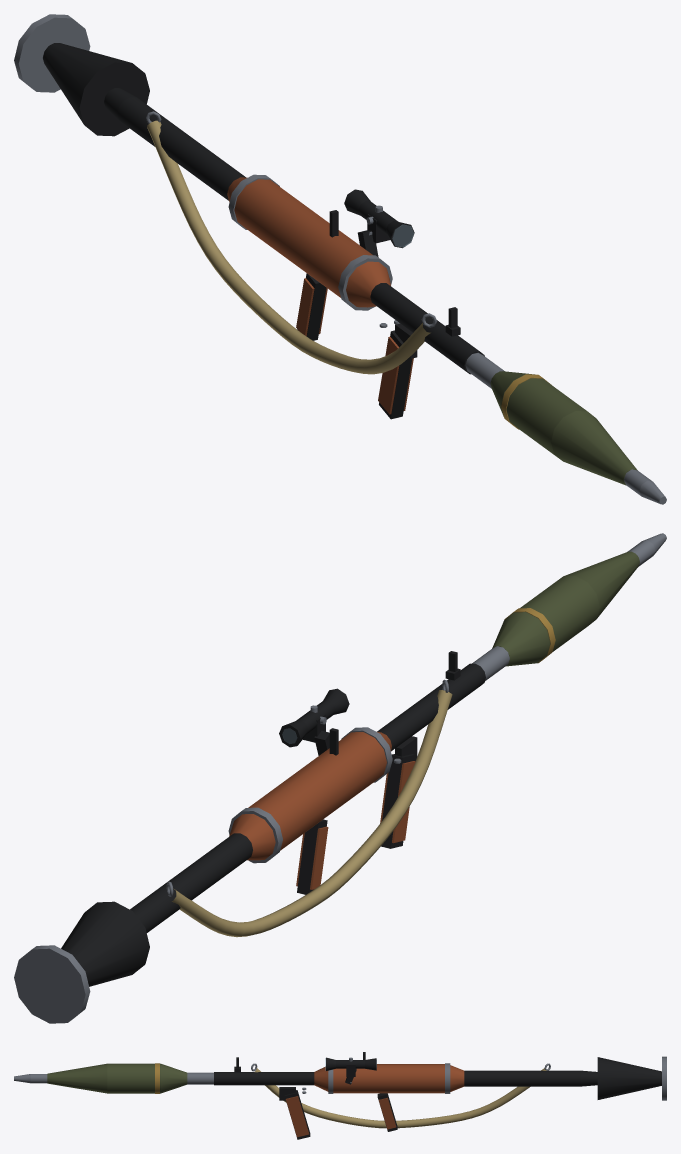
Rendered from rpg-7.glb.
3 renders of one model, top to bottom at view 1: azimuth 30°, elevation 25°; view 2: azimuth 150°, elevation 25°; view 3: azimuth 270°, elevation 25°, orthographic. The views are drawn at different scales.
Parts seen in each view (by area): view 1: Mesh_ShieldBody, Mesh_SlingStrap, Mesh_VenturiFlare, Mesh_TubeRear, Mesh_RocketFrontTaper, Mesh_VenturiRim, Mesh_RocketMain, Mesh_TubeFront, Mesh_ShieldFrontCap, Mesh_GripFrontFrame, Mesh_GripFrontScaleR, Mesh_GripRearFrame (+2 smaller); view 2: Mesh_ShieldBody, Mesh_SlingStrap, Mesh_VenturiFlare, Mesh_VenturiRim, Mesh_TubeRear, Mesh_RocketMain, Mesh_TubeFront, Mesh_RocketRearCone, Mesh_RocketFrontTaper, Mesh_ShieldRearCap, Mesh_GripRearFrame, Mesh_GripFrontFrame (+1 smaller); view 3: Mesh_ShieldBody, Mesh_TubeRear, Mesh_SlingStrap, Mesh_VenturiFlare, Mesh_RocketMain, Mesh_TubeFront, Mesh_RocketFrontTaper, Mesh_RocketRearCone, Mesh_GripFrontScaleL, Mesh_RocketShaft, Mesh_ShieldRearCap, Mesh_GripRearScaleL (+9 smaller).
Part boxes in pixels (bbox=[...]): Mesh_ShieldBody: bbox=[234, 179, 372, 297]; Mesh_SlingStrap: bbox=[147, 120, 430, 374]; Mesh_VenturiFlare: bbox=[43, 43, 149, 136]; Mesh_TubeRear: bbox=[117, 97, 245, 200]; Mesh_RocketFrontTaper: bbox=[551, 411, 637, 485]; Mesh_VenturiRim: bbox=[14, 14, 90, 92]; Mesh_RocketMain: bbox=[501, 374, 586, 459]; Mesh_TubeFront: bbox=[370, 283, 484, 374]; Mesh_ShieldFrontCap: bbox=[346, 261, 390, 307]; Mesh_GripFrontFrame: bbox=[379, 330, 412, 419]; Mesh_GripFrontScaleR: bbox=[378, 336, 399, 414]; Mesh_GripRearFrame: bbox=[297, 273, 326, 340]; Mesh_ShieldBody: bbox=[248, 732, 386, 850]; Mesh_SlingStrap: bbox=[172, 690, 452, 937]; Mesh_VenturiFlare: bbox=[61, 901, 149, 986]; Mesh_VenturiRim: bbox=[14, 945, 90, 1023]; Mesh_TubeRear: bbox=[130, 833, 252, 932]; Mesh_RocketMain: bbox=[513, 576, 599, 655]; Mesh_TubeFront: bbox=[377, 663, 485, 751]; Mesh_RocketRearCone: bbox=[492, 612, 549, 666]; Mesh_RocketFrontTaper: bbox=[564, 551, 639, 618]; Mesh_ShieldRearCap: bbox=[229, 814, 275, 860]; Mesh_GripRearFrame: bbox=[297, 819, 327, 894]; Mesh_GripFrontFrame: bbox=[381, 754, 414, 848]; Mesh_ShieldBody: bbox=[333, 1064, 444, 1093]; Mesh_TubeRear: bbox=[464, 1070, 580, 1086]; Mesh_SlingStrap: bbox=[254, 1068, 546, 1128]; Mesh_VenturiFlare: bbox=[597, 1057, 661, 1099]; Mesh_RocketMain: bbox=[107, 1063, 160, 1093]; Mesh_TubeFront: bbox=[214, 1072, 314, 1085]; Mesh_RocketFrontTaper: bbox=[47, 1063, 107, 1093]; Mesh_RocketRearCone: bbox=[160, 1064, 187, 1093]; Mesh_GripFrontScaleL: bbox=[285, 1096, 308, 1137]; Mesh_RocketShaft: bbox=[187, 1072, 213, 1084]; Mesh_ShieldRearCap: bbox=[450, 1065, 464, 1091]; Mesh_GripRearScaleL: bbox=[378, 1097, 396, 1129].
Size of the model in its own units: 0.148 by 0.2946 by 1.96.
2 materials, 2 textured.
